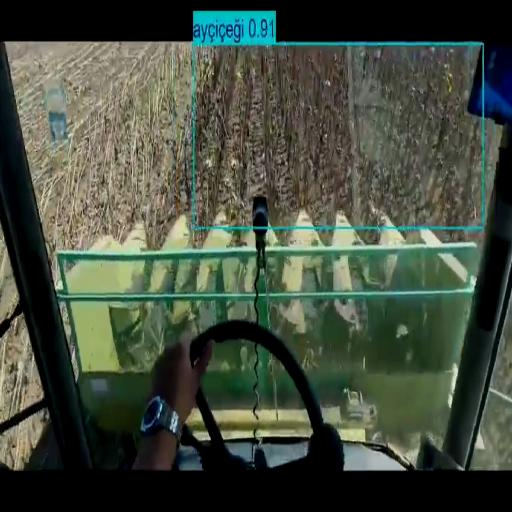ayc: (194, 47, 482, 225)
